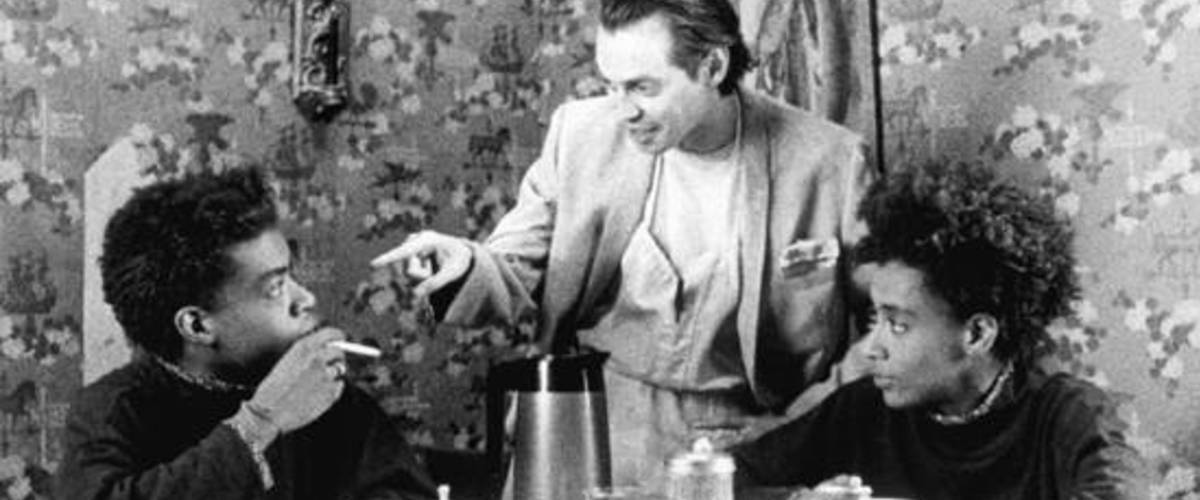cigarette: (312, 326, 389, 364)
